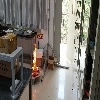fire: (32, 36, 39, 75)
